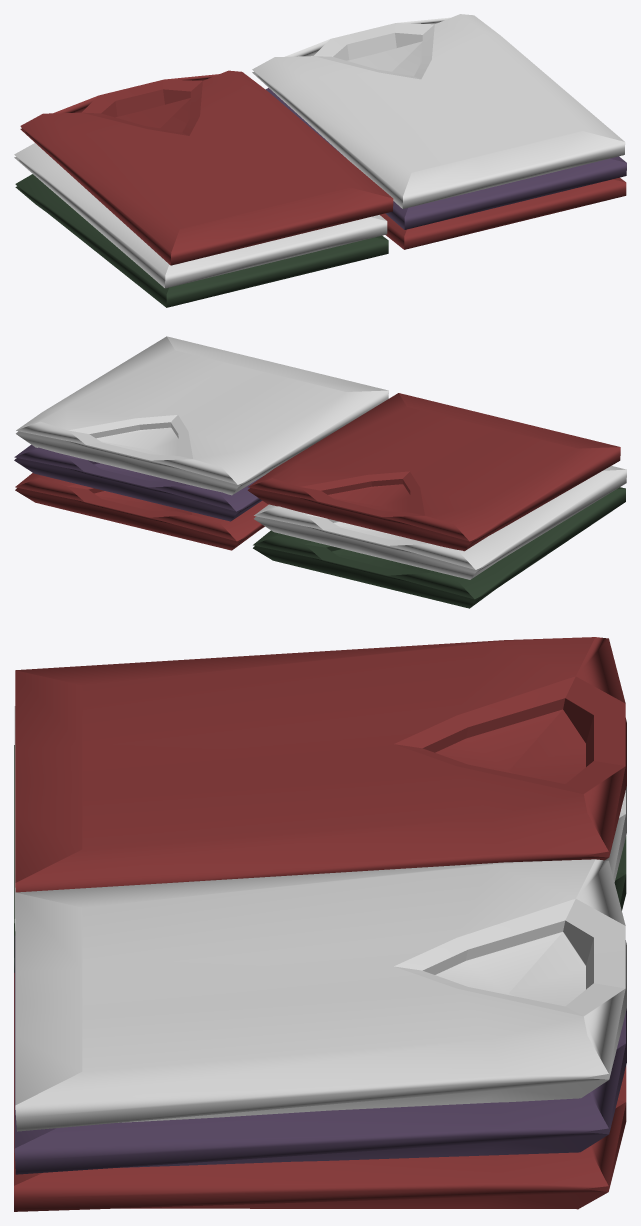
Rendered from shirts.fbx.
The picture shows the model from 3 angles, top to bottom: view 1: azimuth 30°, elevation 25°; view 2: azimuth 150°, elevation 25°; view 3: azimuth 270°, elevation 25°; orthographic projection. The views are drawn at different scales.
Parts seen in each view (by area): view 1: shirt_6, shirt_7, shirt_4, shirt_3, shirt_5, shirt_1; view 2: shirt_6, shirt_7, shirt_4, shirt_3, shirt_1, shirt_5; view 3: shirt_7, shirt_6, shirt_5, shirt_1, shirt_4.
Part boxes in pixels (x1=…): shirt_6: x1=20, y1=70, x2=393, y2=265; shirt_7: x1=252, y1=14, x2=625, y2=208; shirt_4: x1=14, y1=143, x2=387, y2=288; shirt_3: x1=15, y1=174, x2=388, y2=307; shirt_5: x1=265, y1=88, x2=626, y2=229; shirt_1: x1=380, y1=177, x2=626, y2=249; shirt_6: x1=247, y1=393, x2=620, y2=551; shirt_7: x1=16, y1=336, x2=388, y2=495; shirt_4: x1=254, y1=466, x2=626, y2=579; shirt_3: x1=253, y1=487, x2=625, y2=608; shirt_1: x1=15, y1=473, x2=268, y2=550; shirt_5: x1=14, y1=444, x2=262, y2=521; shirt_7: x1=15, y1=859, x2=626, y2=1131; shirt_6: x1=15, y1=637, x2=626, y2=892; shirt_5: x1=14, y1=936, x2=626, y2=1174; shirt_1: x1=14, y1=972, x2=626, y2=1211; shirt_4: x1=14, y1=706, x2=626, y2=930.
Size of the model in its own units: 0.6605 by 0.116 by 0.3865.
